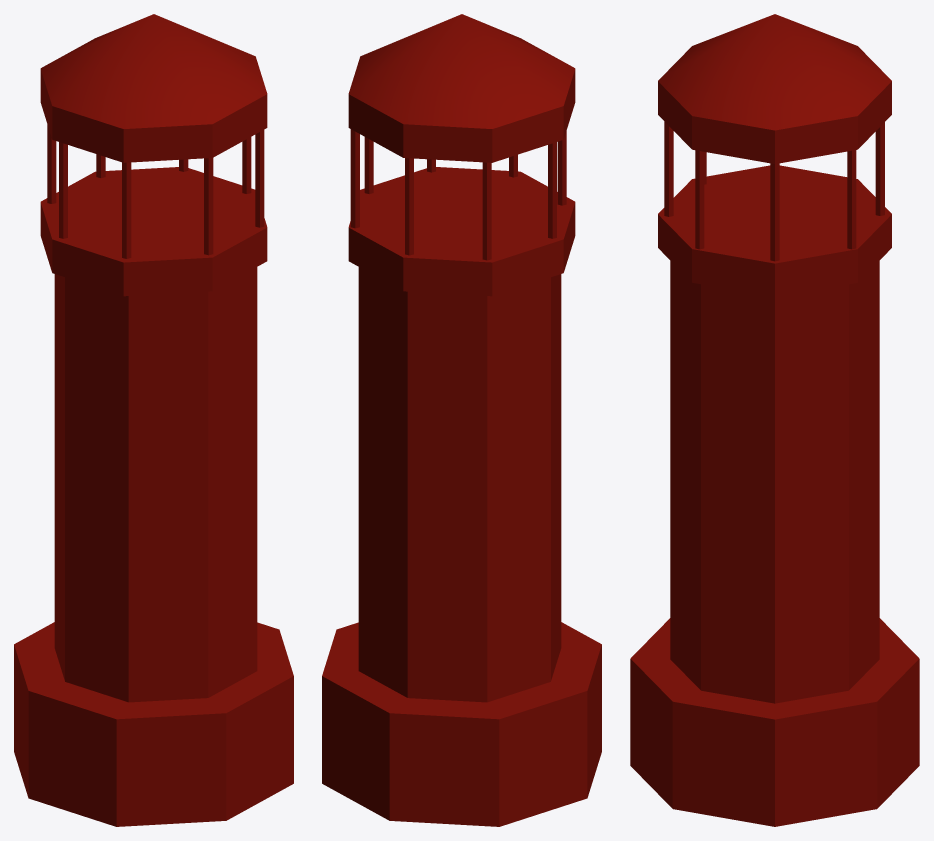
File: Lighhouse.fbx
3 views of the same model, side by side, from view 1: azimuth 30°, elevation 25°; view 2: azimuth 150°, elevation 25°; view 3: azimuth 270°, elevation 25° (orthographic).
Parts seen in each view (by area): view 1: IslandShape2; view 2: IslandShape2; view 3: IslandShape2.
Part boxes in pixels (x1=…): IslandShape2: x1=14, y1=14, x2=293, y2=826; IslandShape2: x1=322, y1=14, x2=601, y2=826; IslandShape2: x1=630, y1=14, x2=919, y2=826.
Size of the model in its own units: 2.76 by 7.93 by 2.76.
